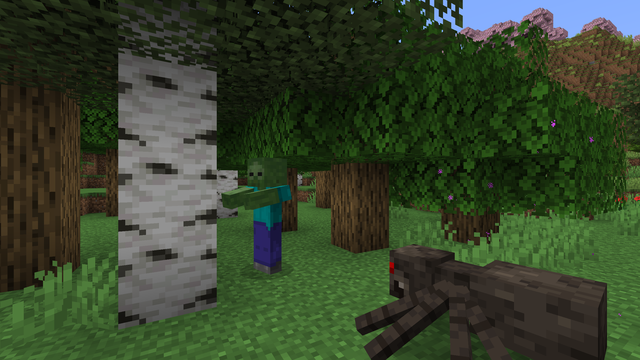araignees: (362, 232, 585, 354)
zombies: (246, 159, 288, 277)
